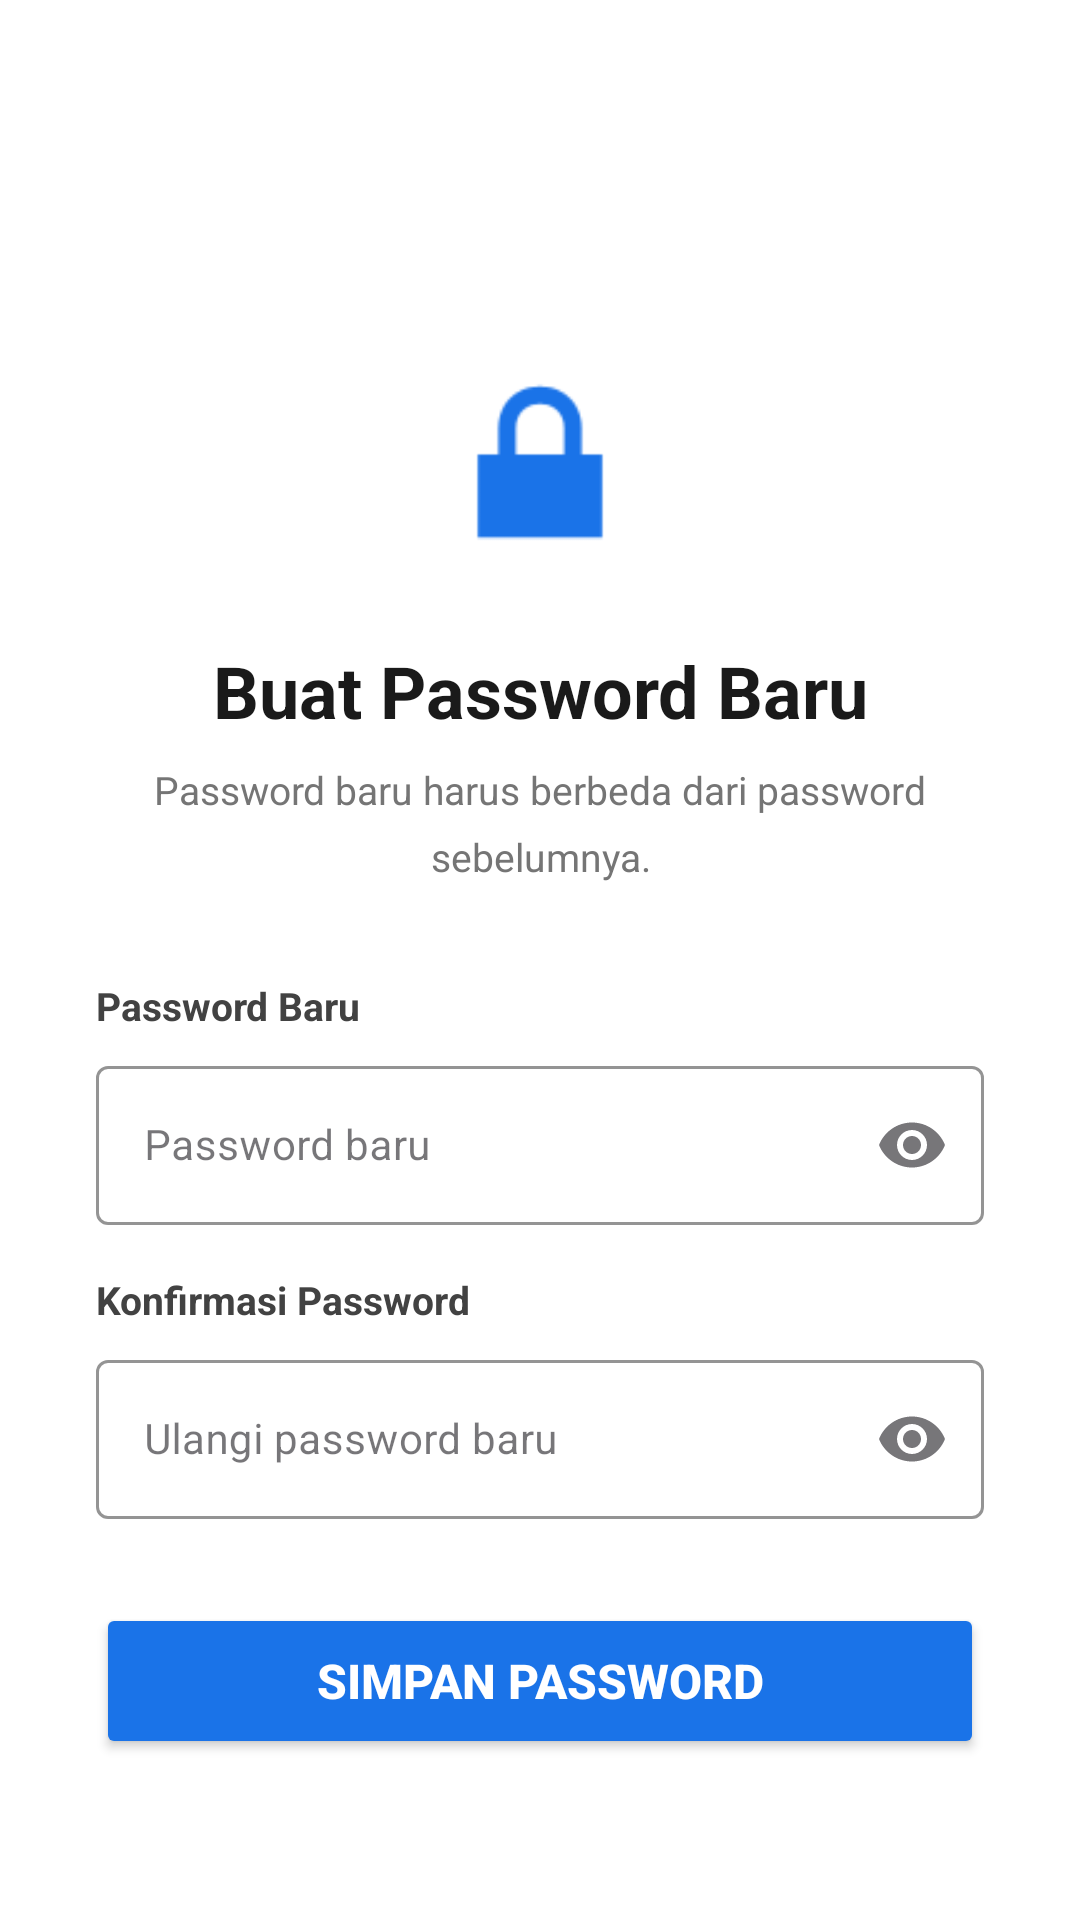

Icons on this 1080 x 1920 Android screen, each with its box as (x1, y1, x2, y2):
lock: (477, 385, 603, 539)
